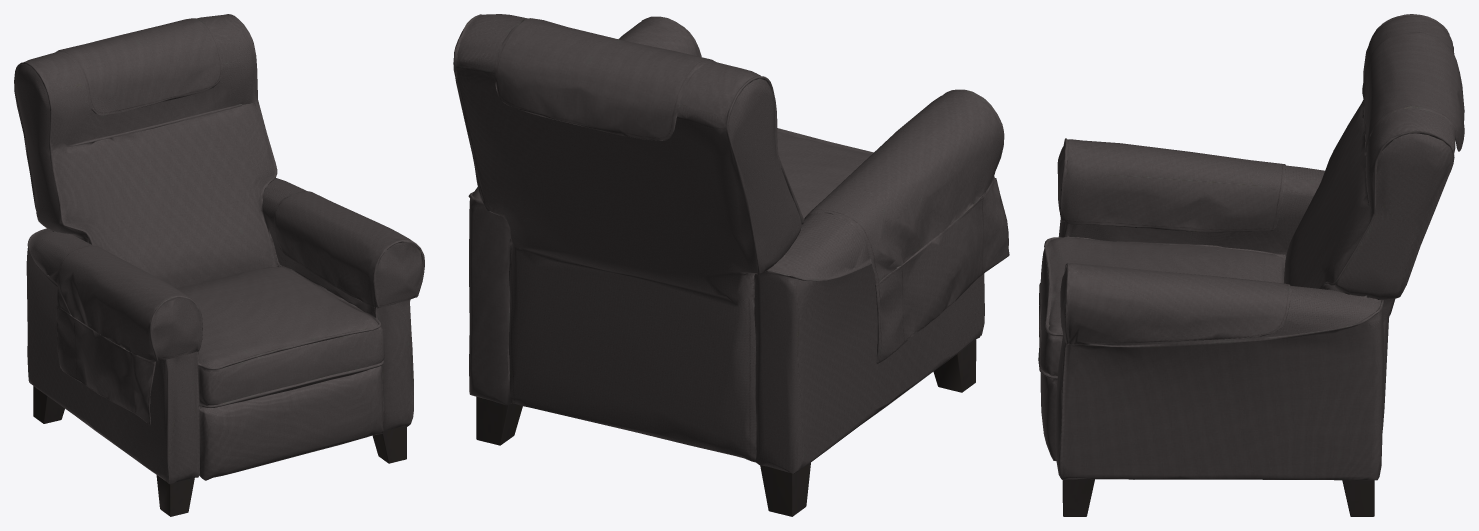
File: MUREN recliner - Remmarn dark gray.glb
The picture shows the model from 3 angles, left to right: view 1: azimuth 30°, elevation 25°; view 2: azimuth 150°, elevation 25°; view 3: azimuth 270°, elevation 25°; orthographic projection. The views are drawn at different scales.
Parts seen in each view (by area): view 1: ProcessedMeshNode; view 2: ProcessedMeshNode; view 3: ProcessedMeshNode.
Boxes of the visible parts, x1,y1,x2,y2 form: ProcessedMeshNode: [14, 14, 424, 516]; ProcessedMeshNode: [453, 14, 1009, 516]; ProcessedMeshNode: [1038, 14, 1464, 516].
Size of the model in its own units: 0.8542 by 0.9764 by 0.9778.
1 material, 1 textured.
